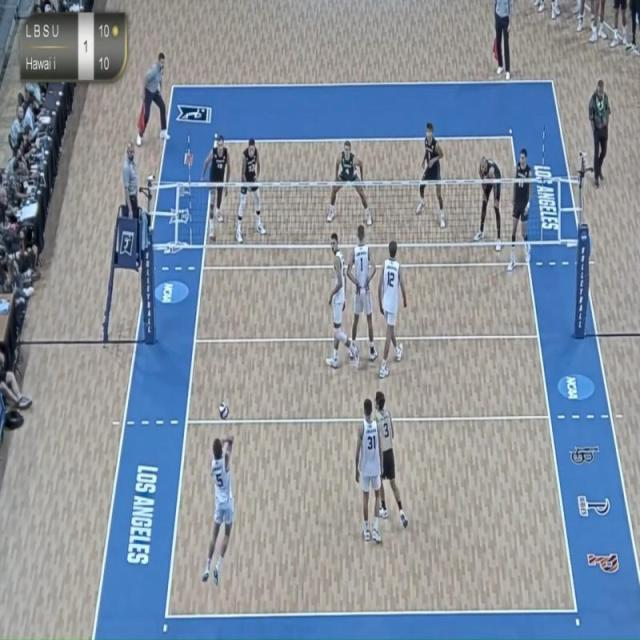volleyball: (216, 398, 231, 424)
